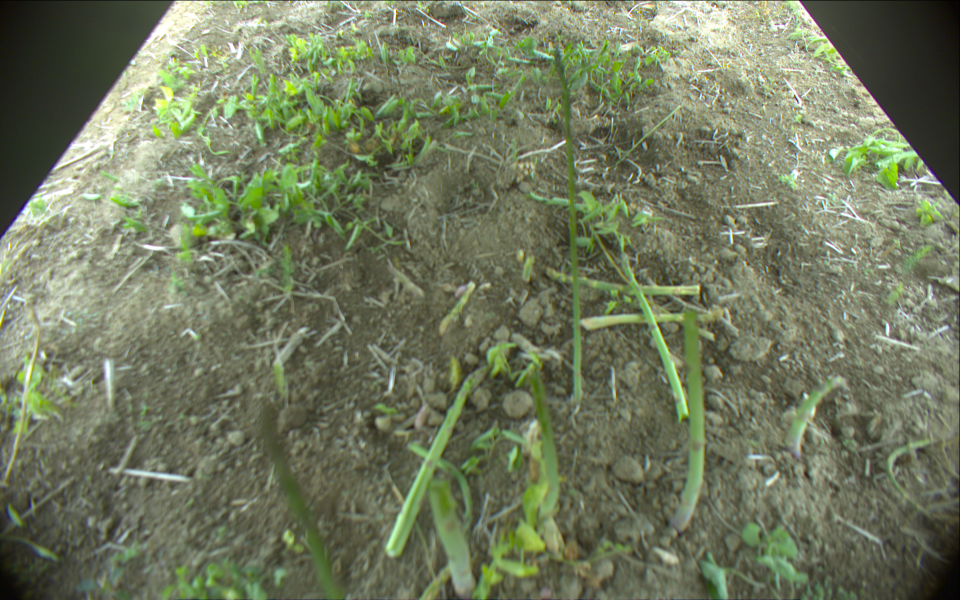aspa: (386, 365, 484, 558), (260, 401, 344, 600), (550, 50, 583, 405), (623, 256, 689, 422), (669, 312, 707, 531), (886, 436, 960, 524), (525, 363, 562, 526), (426, 472, 475, 595), (779, 376, 843, 453), (550, 266, 700, 297), (581, 309, 726, 331), (436, 283, 477, 335), (521, 257, 535, 285)
